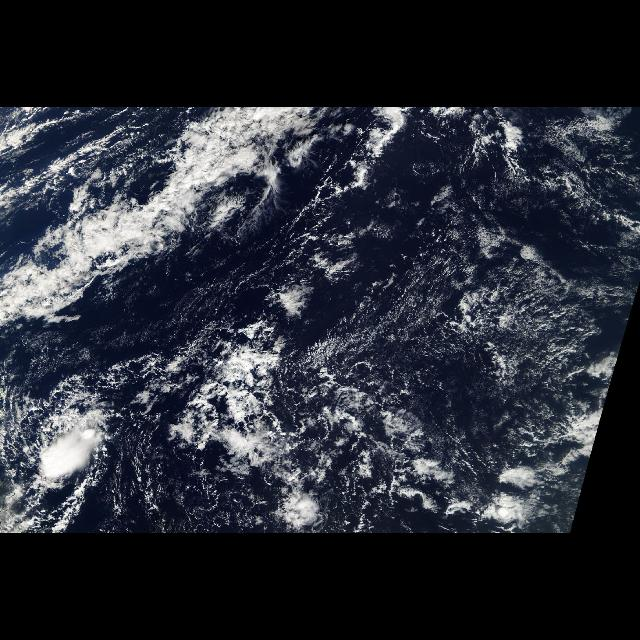Fish: (8, 108, 320, 316)
Gravel: (264, 228, 572, 526)
Sugar: (132, 256, 588, 534)
